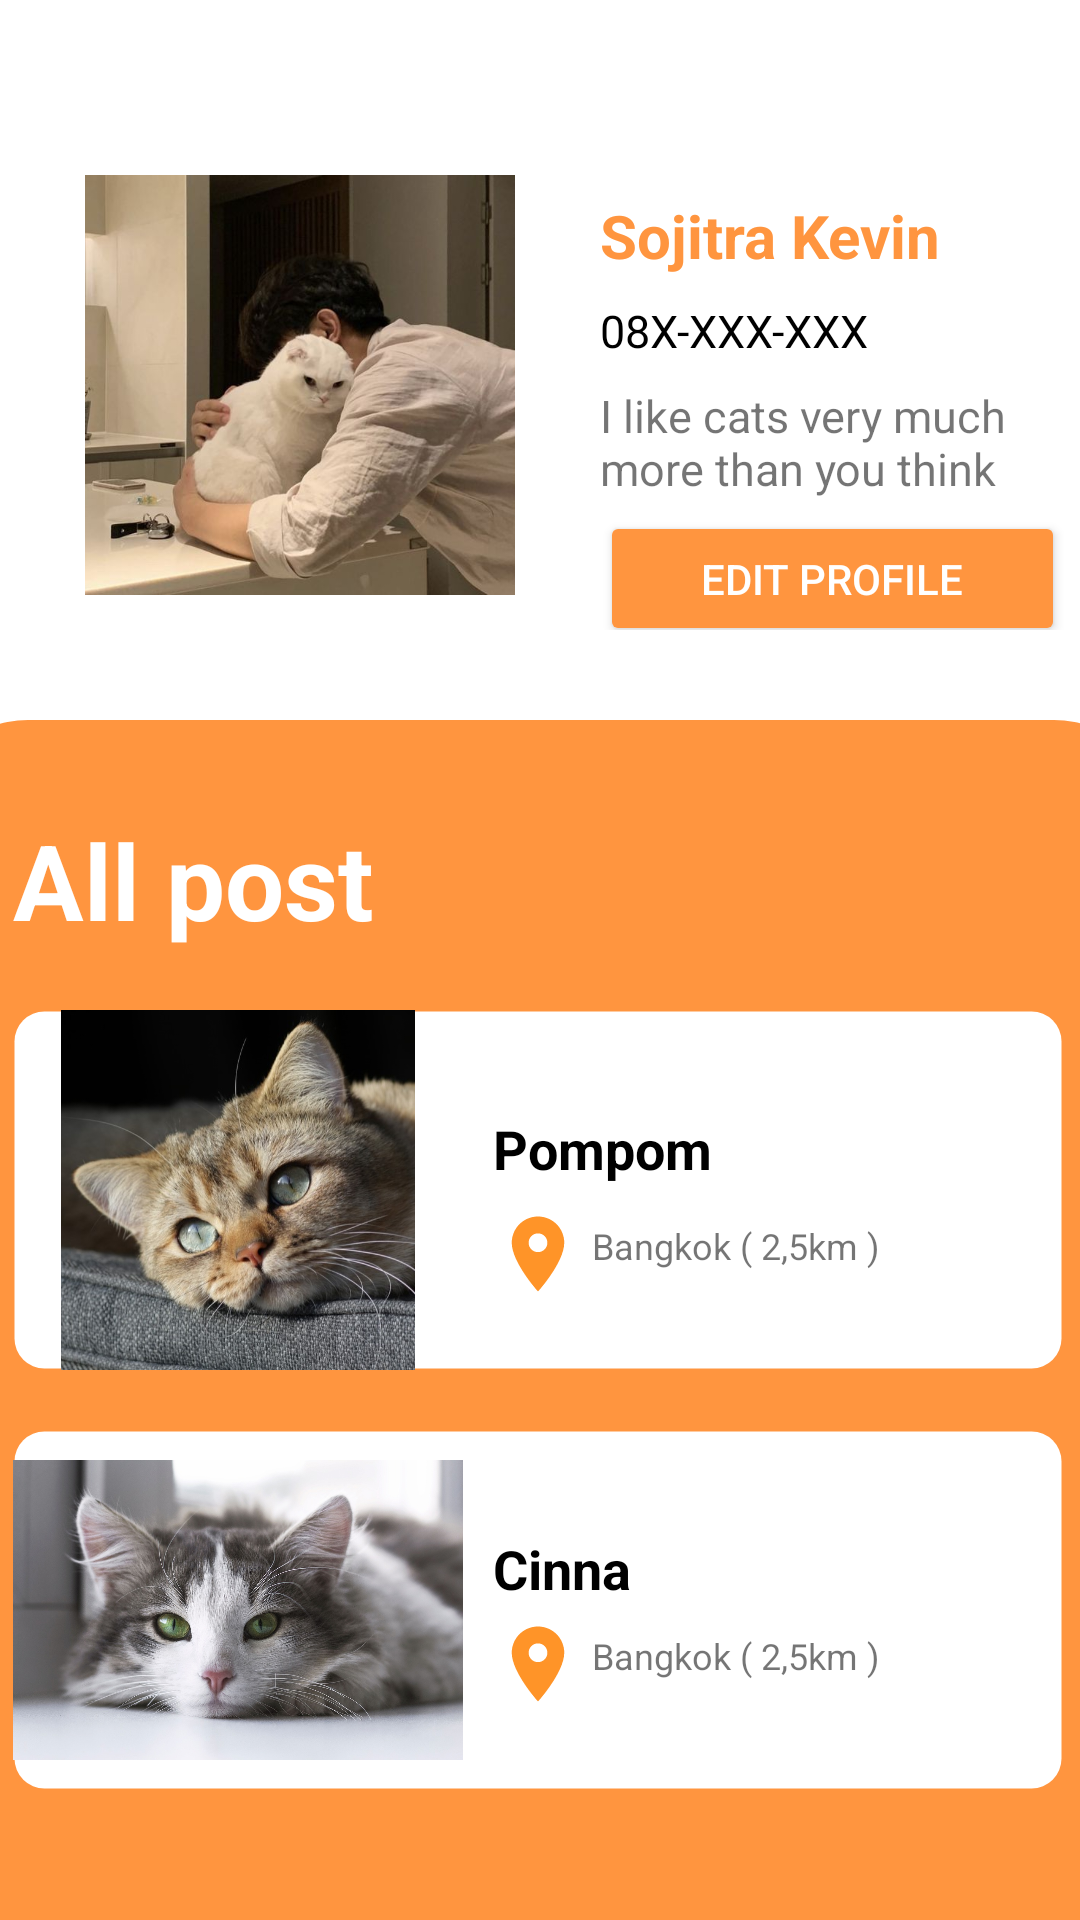

Screen size 1080px×1920px. Icon name, then its center in pixels as [x,y]:
place: [538,1253], [538,1663]
